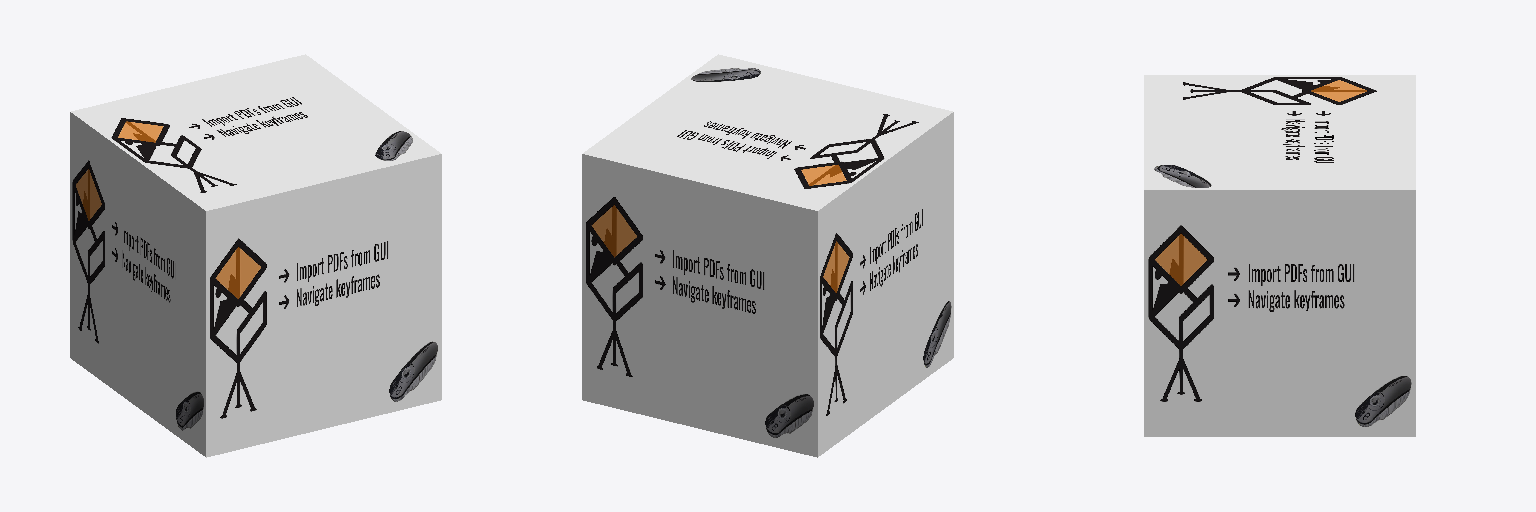
3 views of the same model, side by side, from view 1: azimuth 30°, elevation 25°; view 2: azimuth 150°, elevation 25°; view 3: azimuth 270°, elevation 25° (orthographic).
Visible parts, largest first — view 1: demo_slide-2; view 2: demo_slide-2; view 3: demo_slide-2.
Boxes of the visible parts, x1,y1,x2,y2 form: demo_slide-2: [70, 54, 441, 457]; demo_slide-2: [582, 54, 953, 457]; demo_slide-2: [1144, 75, 1415, 436].
Bounding box in the file's own units: 1 × 1 × 1.
Materials: 1 (1 with a texture image).